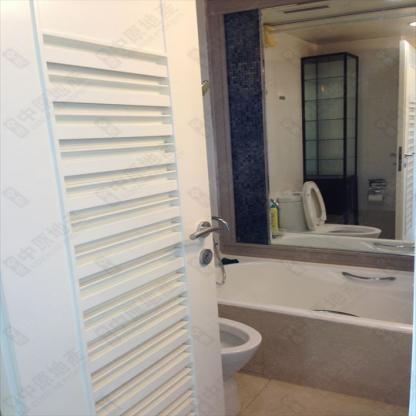Bathtub: (217, 252, 414, 405)
Toilet: (276, 181, 376, 235), (218, 316, 259, 415)
